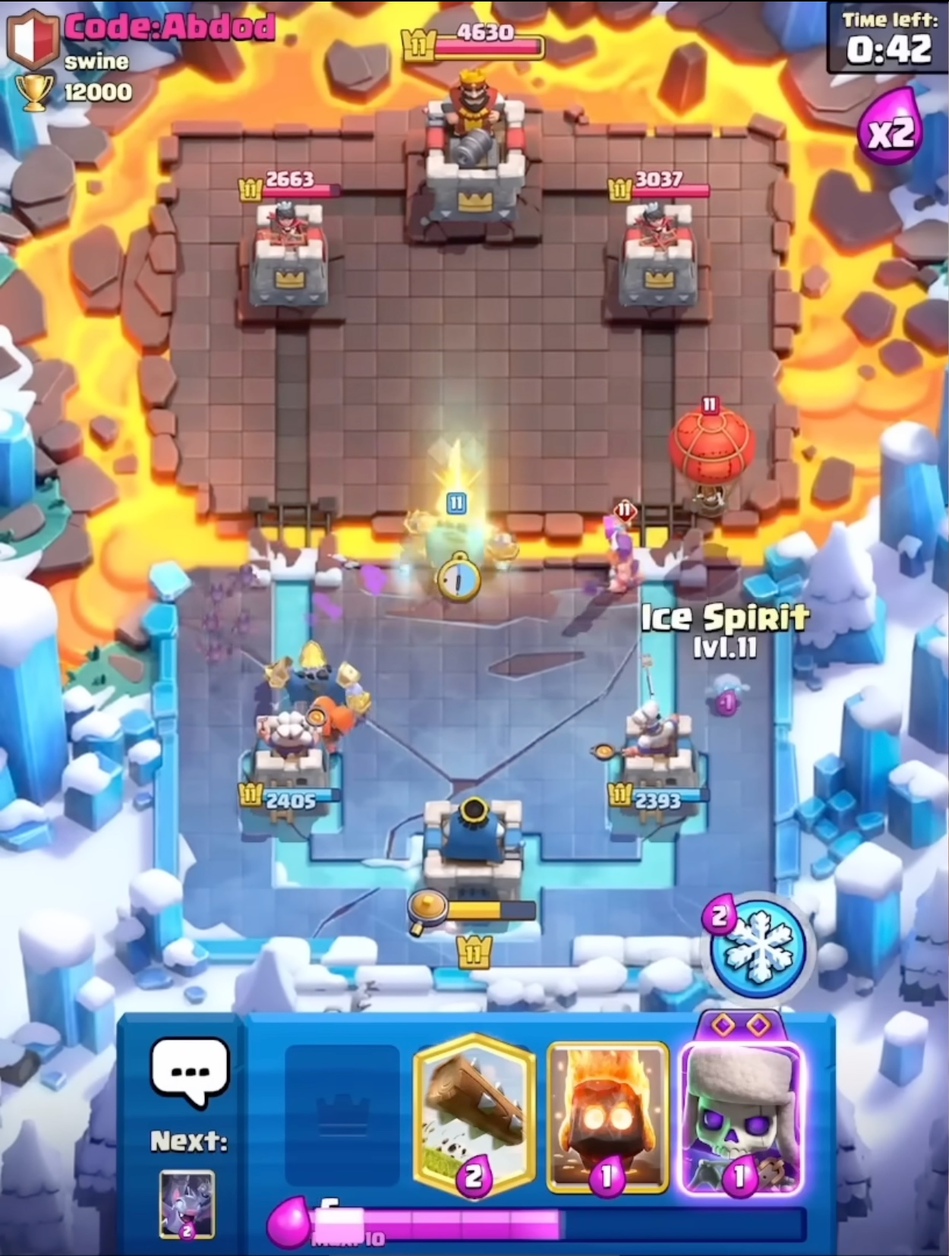hero_ice_golem: (399, 476, 523, 599), (266, 634, 378, 724)
